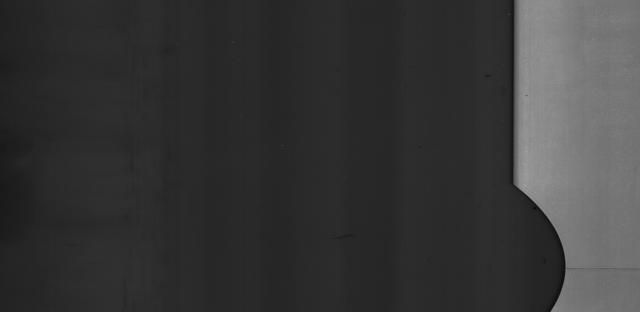crescent_gap: (455, 155, 571, 312)
welding_line: (552, 263, 640, 280)
